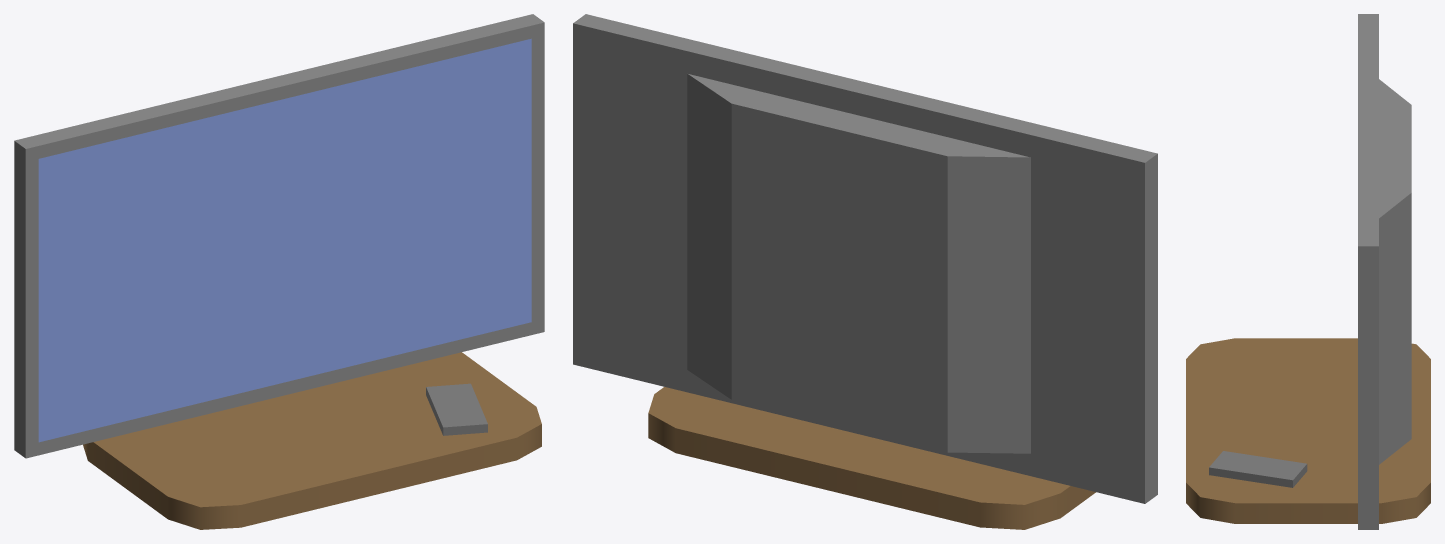
3 renders of one model, left to right at view 1: azimuth 30°, elevation 25°; view 2: azimuth 150°, elevation 25°; view 3: azimuth 270°, elevation 25°, orthographic. The views are drawn at different scales.
Parts seen in each view (by area): view 1: tv; view 2: tv; view 3: tv.
Part boxes in pixels (x1=…): tv: x1=14, y1=14, x2=544, y2=529; tv: x1=573, y1=14, x2=1157, y2=529; tv: x1=1186, y1=14, x2=1430, y2=529.
Size of the model in its own units: 274 by 171 by 122.
